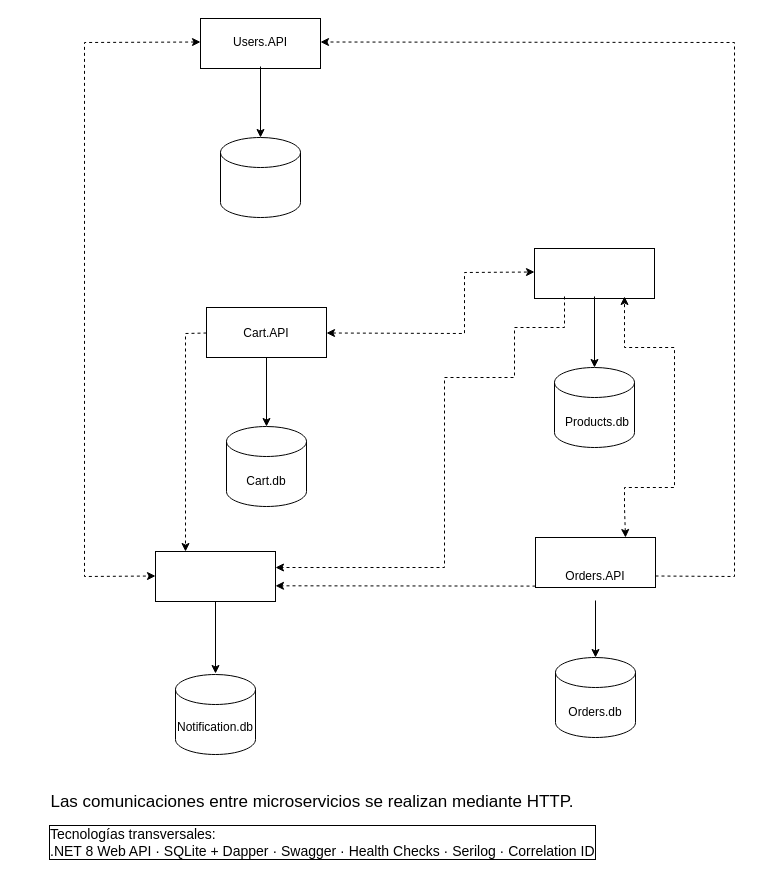
Some shapes in this 760 by 877 pixel diagram are drawn without their labels. The centre of each missing label's shape, as x and y in pixels:
Notification.API: [215,576]
Products.API: [594,273]
Users.db: [260,177]
